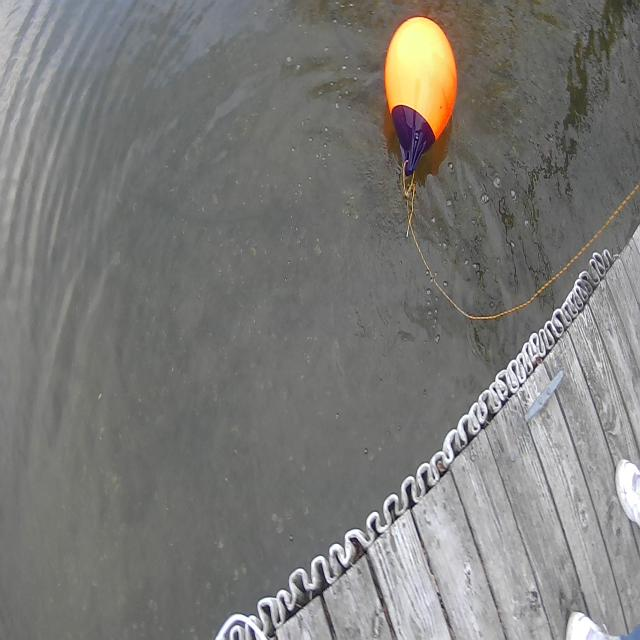Buoy: (383, 16, 462, 179)
